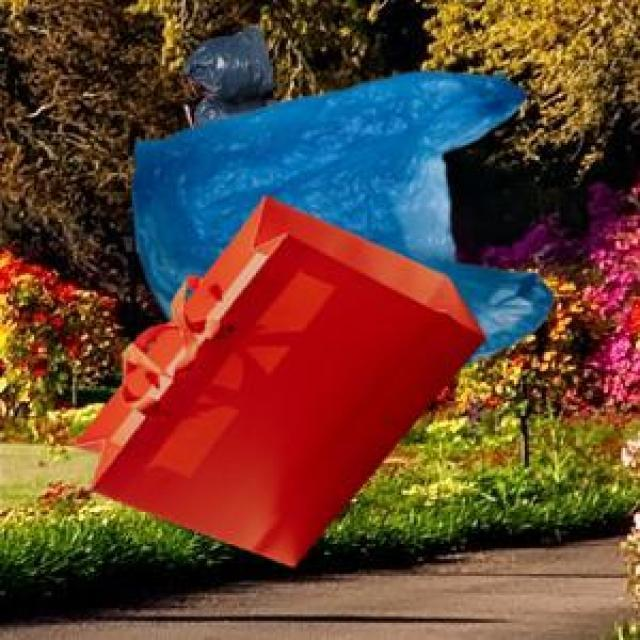miscellaneous trash: (179, 21, 273, 124)
paper: (70, 192, 482, 563)
